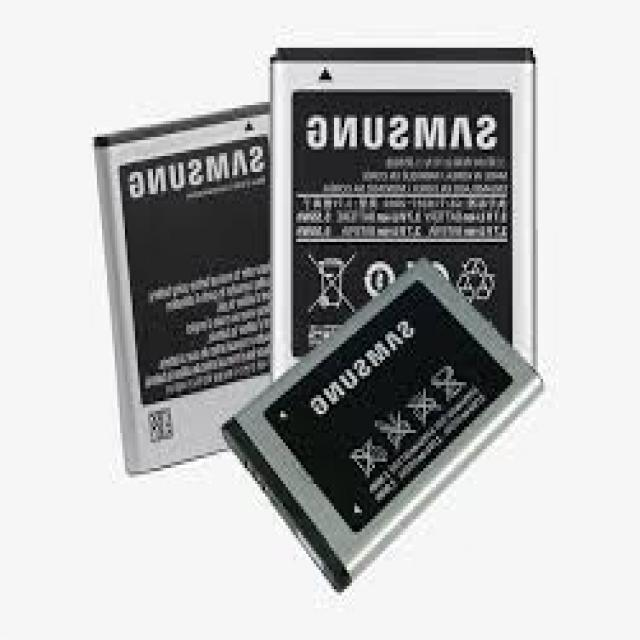battery: (223, 252, 539, 594), (270, 40, 536, 388), (90, 100, 270, 474)
